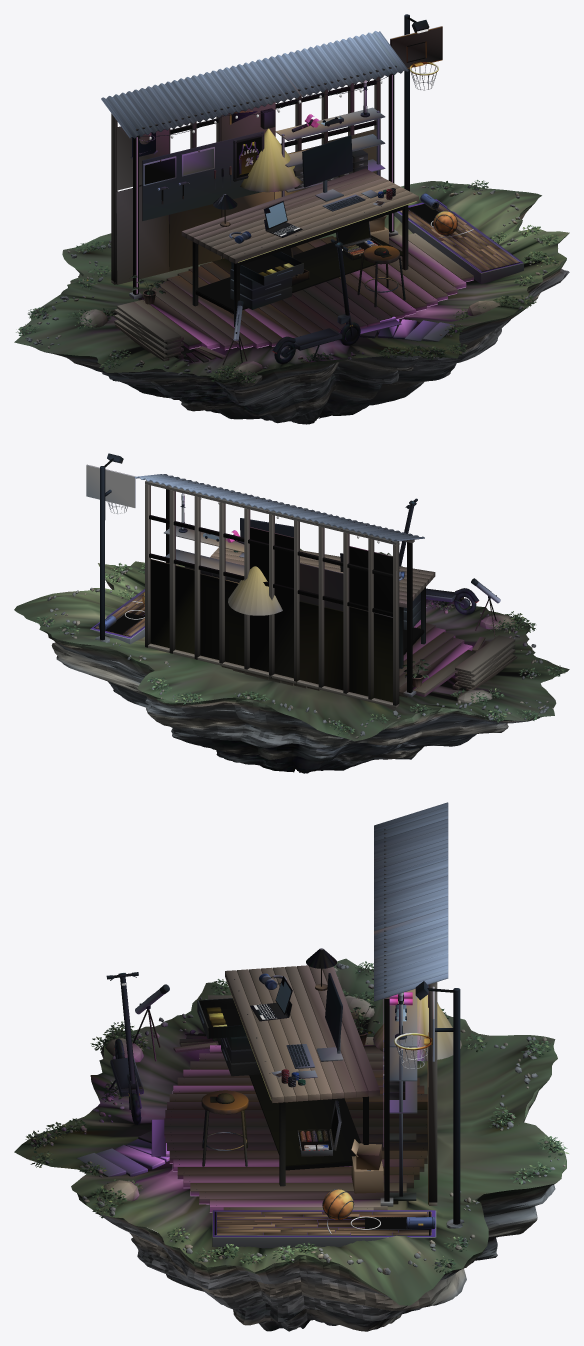
File: flight-projects-1f489c5b.glb
3 renders of one model, top to bottom at view 1: azimuth 30°, elevation 25°; view 2: azimuth 150°, elevation 25°; view 3: azimuth 270°, elevation 25°, orthographic. The views are drawn at different scales.
Visible parts, largest first — view 1: Projects island · flight.001; view 2: Projects island · flight.001; view 3: Projects island · flight.001.
Boxes of the visible parts, x1,y1,x2,y2 form: Projects island · flight.001: [14, 14, 569, 424]; Projects island · flight.001: [14, 453, 569, 773]; Projects island · flight.001: [14, 802, 568, 1331].
Bounding box in the file's own units: 12.7 × 7.34 × 8.69.
